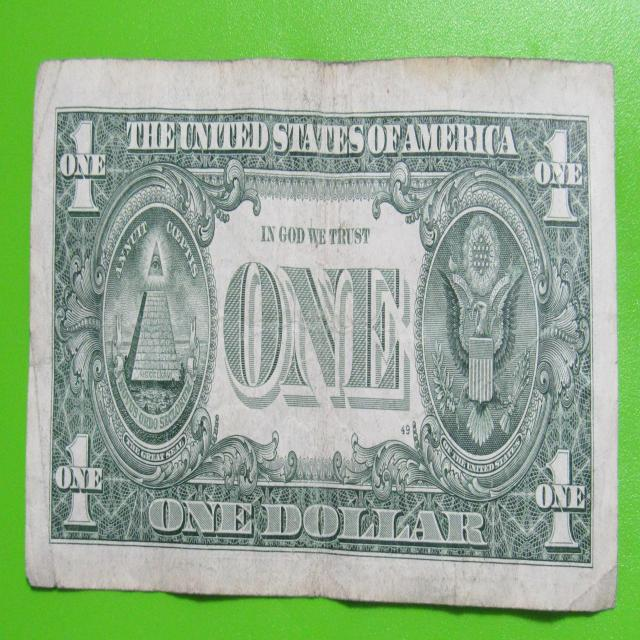1-Back: (31, 64, 611, 606)
